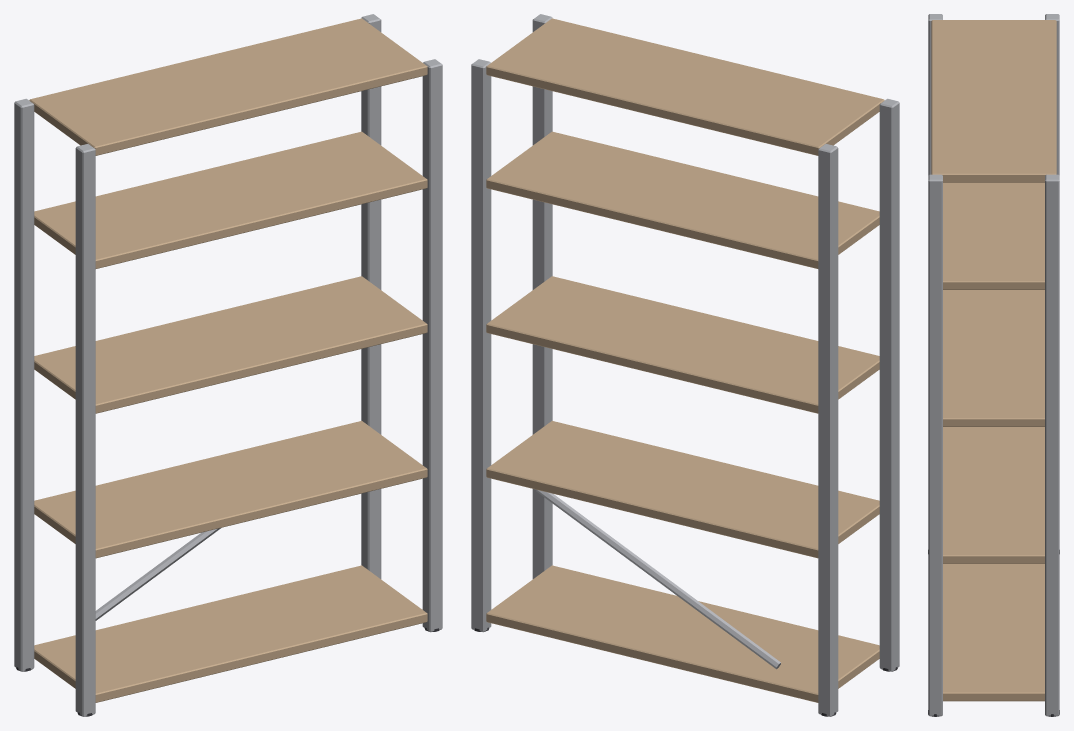
Rendered from computers-and-desk-gadgets-shelf-4-tier-312a812f__38861.glb.
The picture shows the model from 3 angles, left to right: view 1: azimuth 30°, elevation 25°; view 2: azimuth 150°, elevation 25°; view 3: azimuth 270°, elevation 25°; orthographic projection. The views are drawn at different scales.
Parts seen in each view (by area): view 1: shelf-4-tier; view 2: shelf-4-tier; view 3: shelf-4-tier.
Boxes of the visible parts, x1,y1,x2,y2 form: shelf-4-tier: (14,14,442,716); shelf-4-tier: (471,14,899,716); shelf-4-tier: (928,14,1059,716).
Size of the model in its own units: 1.2 by 1.8 by 0.4007.
